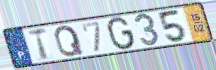3: (134, 12, 162, 49)
5: (157, 7, 188, 44)
7: (80, 20, 103, 54)
G: (106, 16, 137, 51)
Q: (53, 24, 86, 58)
T: (27, 26, 51, 62)
